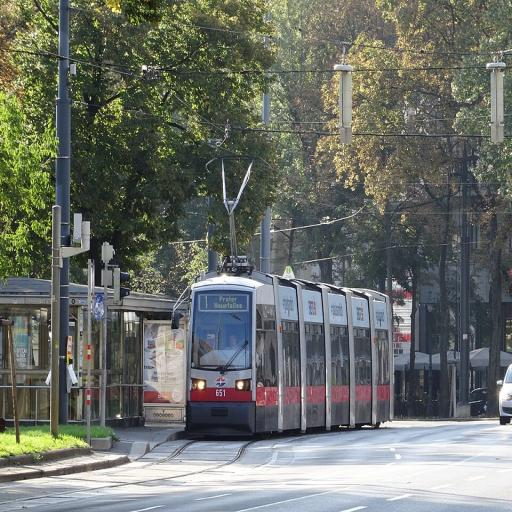ULF: (177, 262, 396, 442)
